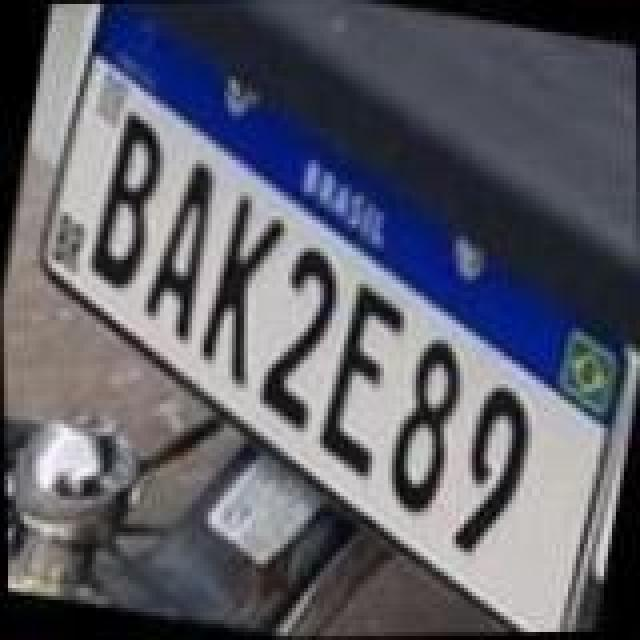2: (248, 242, 348, 434)
8: (374, 334, 474, 522)
9: (442, 384, 542, 568)
A: (130, 154, 222, 342)
B: (80, 110, 176, 298)
E: (306, 280, 414, 484)
K: (190, 186, 294, 390)
